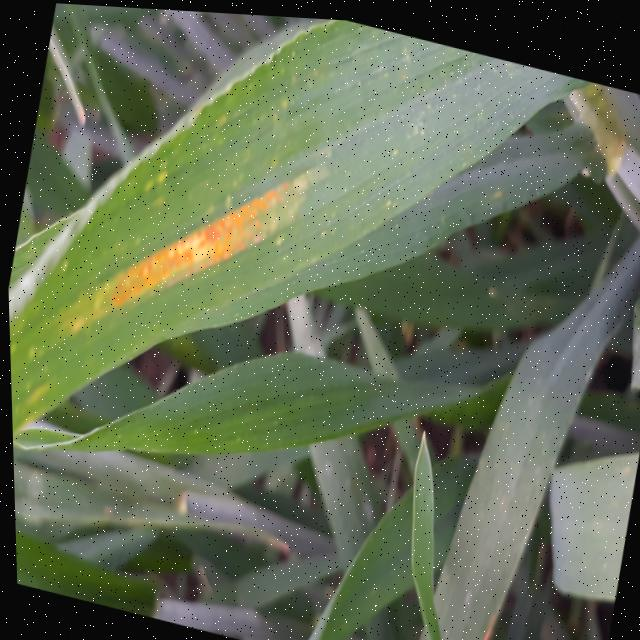yellow_rust: (0, 0, 499, 612), (545, 67, 640, 187), (424, 572, 510, 640)
